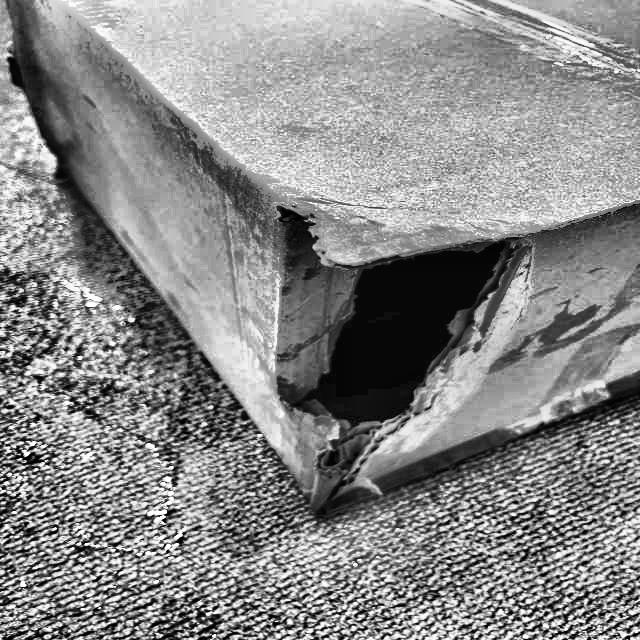box: (0, 0, 639, 530)
hole: (265, 203, 521, 503)
